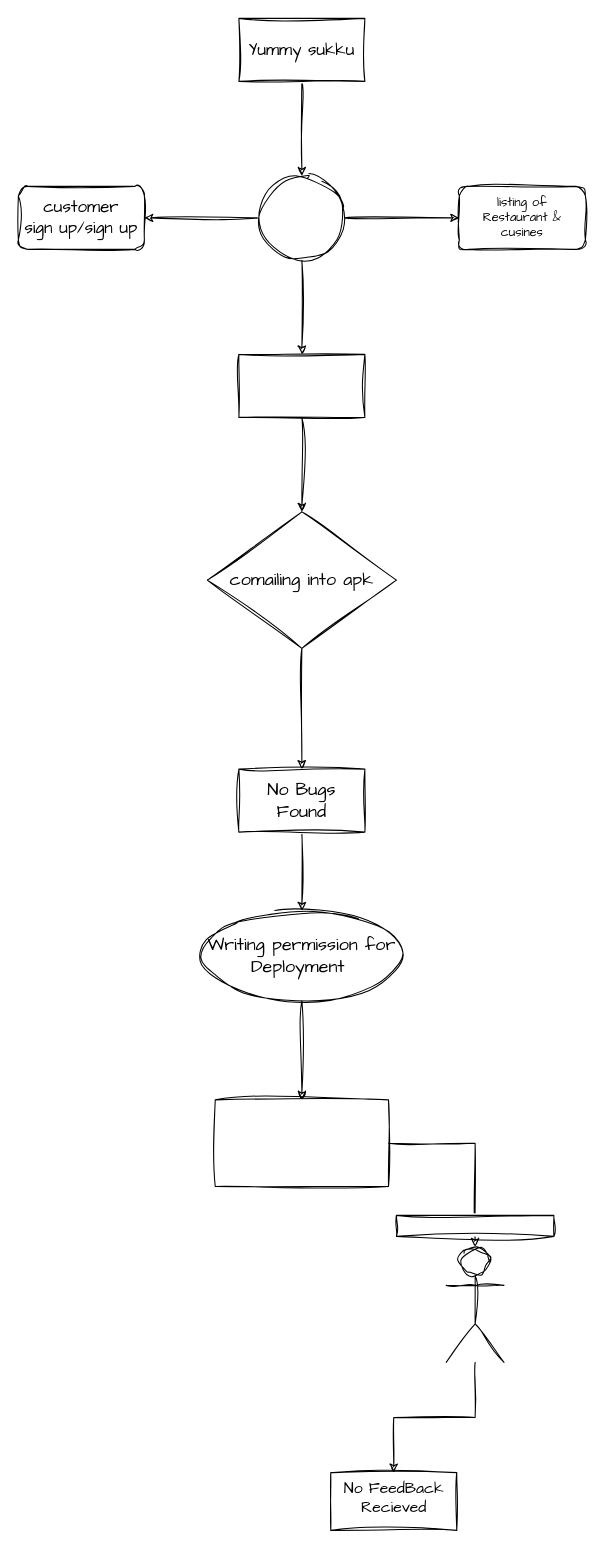
Image size: 604x1549. Some labels were removed from this diagram. The shapes that lost their labels are listed below. From the top down, each one's box as (x1, y1, x2, y2) in pixels, then its label:
(259, 175, 344, 260): design ui/ux
(238, 353, 365, 417): checkout Page & RTS
(214, 1099, 388, 1186): Pushing The APK to Cload Or AppStore
(445, 1246, 504, 1362): Customer Using Application
